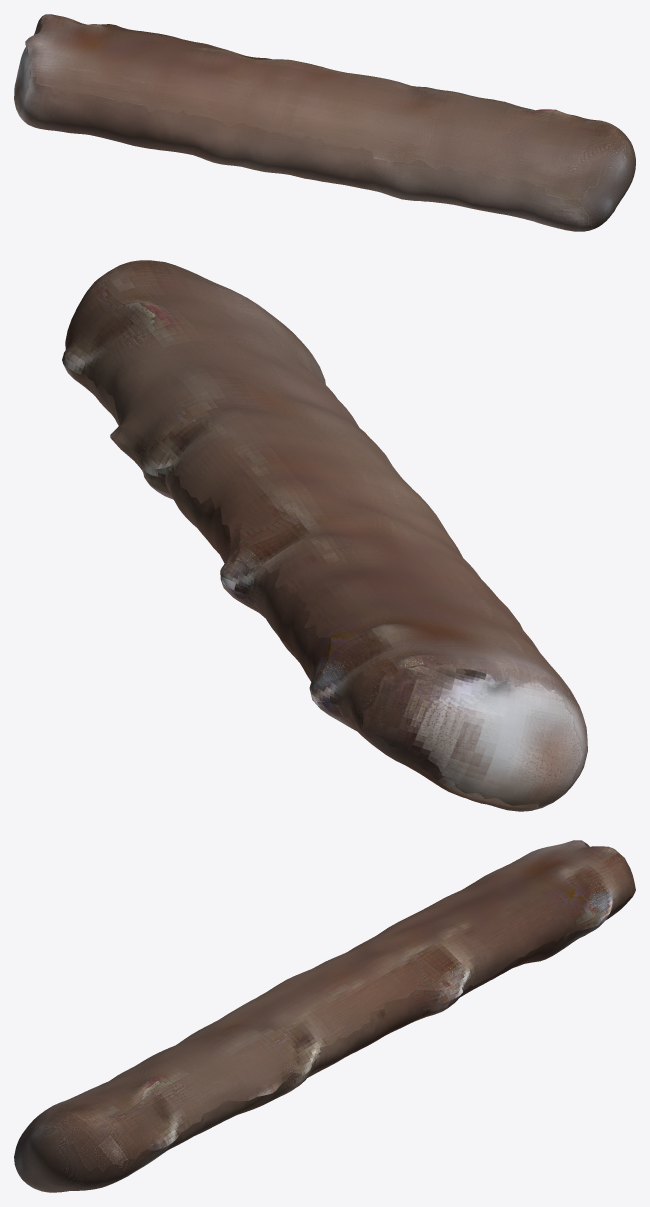
Rendered from 1_towel_rack.glb.
The picture shows the model from 3 angles, top to bottom: view 1: azimuth 30°, elevation 25°; view 2: azimuth 150°, elevation 25°; view 3: azimuth 270°, elevation 25°; orthographic projection. The views are drawn at different scales.
Parts seen in each view (by area): view 1: 1_towel_rack.obj; view 2: 1_towel_rack.obj; view 3: 1_towel_rack.obj.
Part boxes in pixels (x1=…): 1_towel_rack.obj: x1=14, y1=14, x2=635, y2=231; 1_towel_rack.obj: x1=62, y1=260, x2=587, y2=811; 1_towel_rack.obj: x1=14, y1=840, x2=635, y2=1192.
Size of the model in its own units: 0.3607 by 0.0993 by 0.3671.
Materials: 1 (1 with a texture image).
